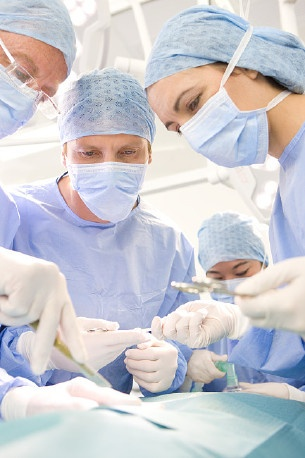Mask: (65, 132, 157, 224)
